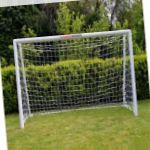goals: (12, 27, 142, 129)
